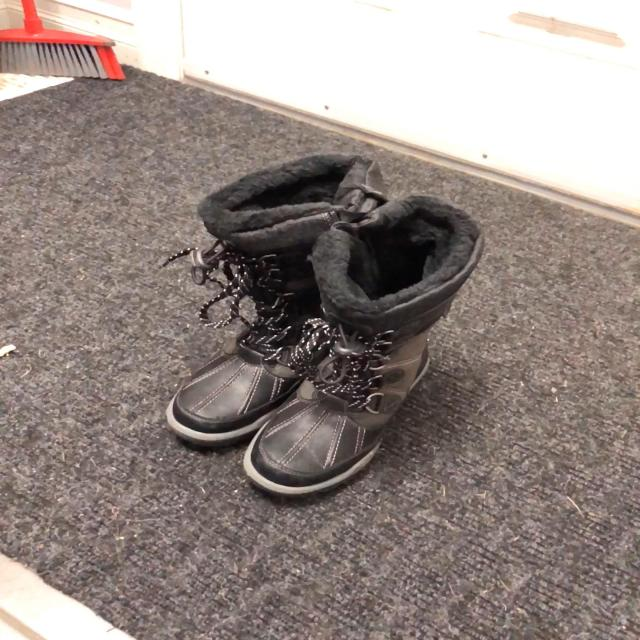shoe: (244, 328, 430, 493), (167, 270, 329, 438)
